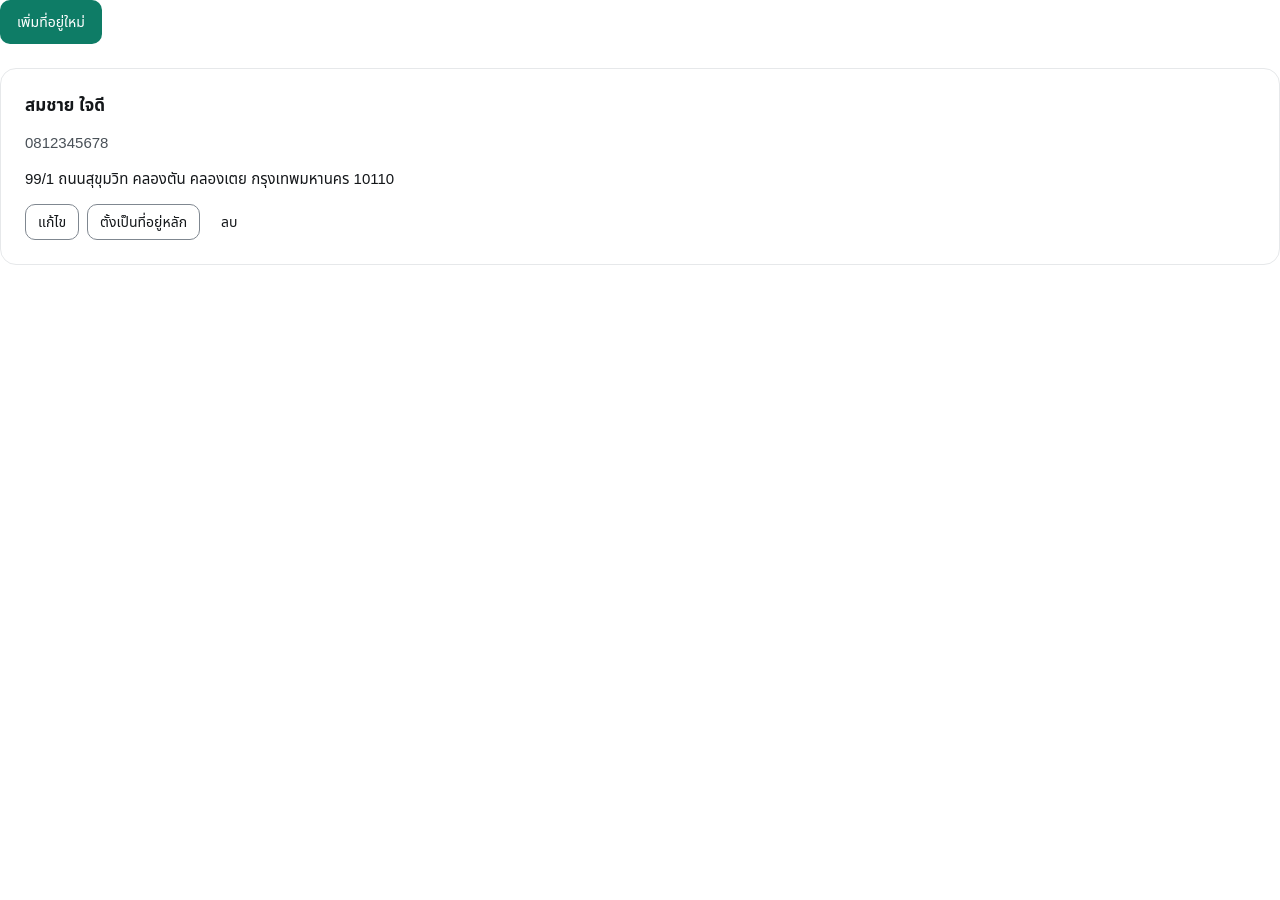
Test: AddressBook › edits an address with the stored values prefilled
Step 1. Click the button "แก้ไข" → [52, 222], box x1=25 y1=204 x2=79 y2=240
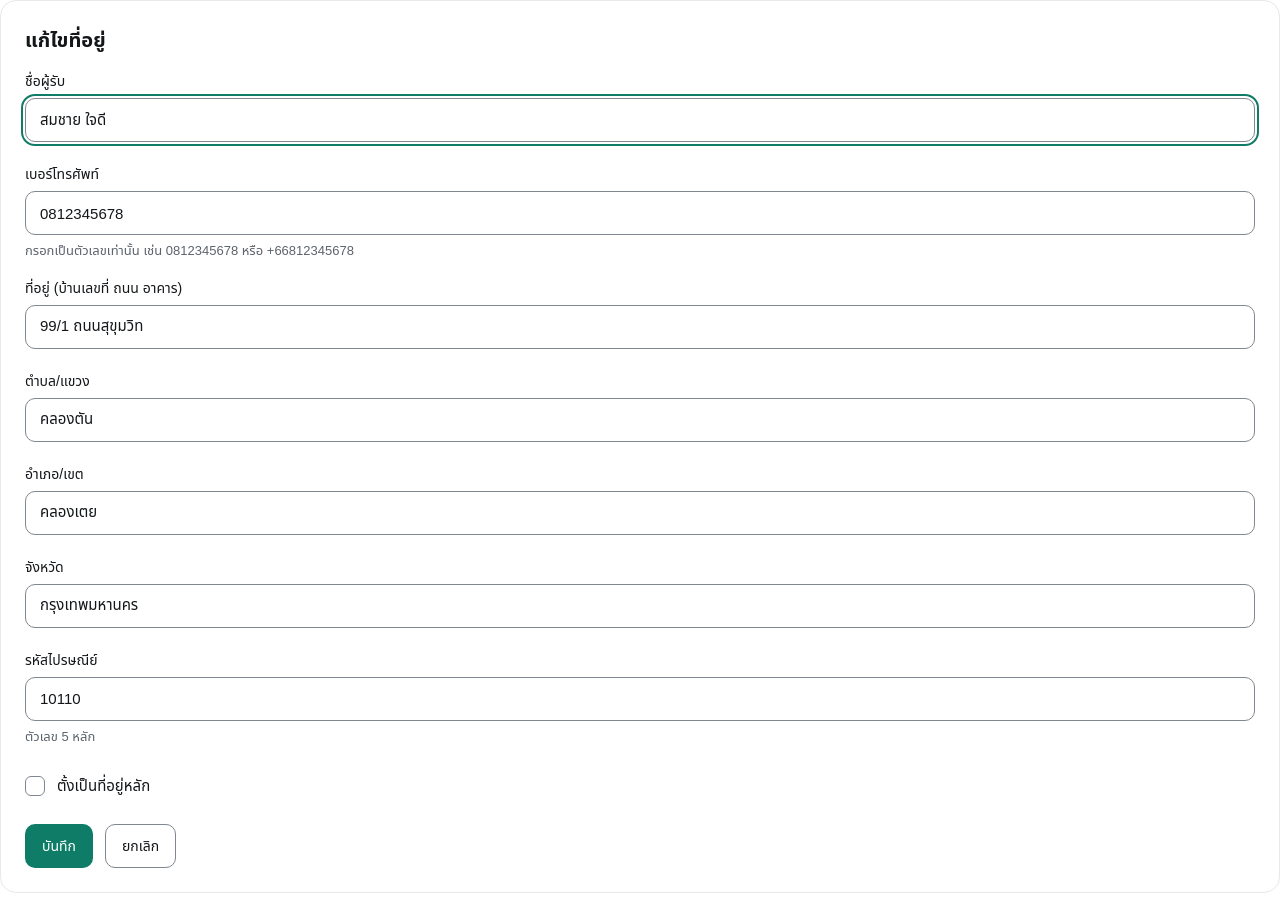
Check: the field labelled "จังหวัด" holds "กรุงเทพมหานคร"
Step 2. Replace the text in the field labelled "จังหวัด" with "นนทบุรี" → [640, 606], box x1=25 y1=584 x2=1255 y2=628
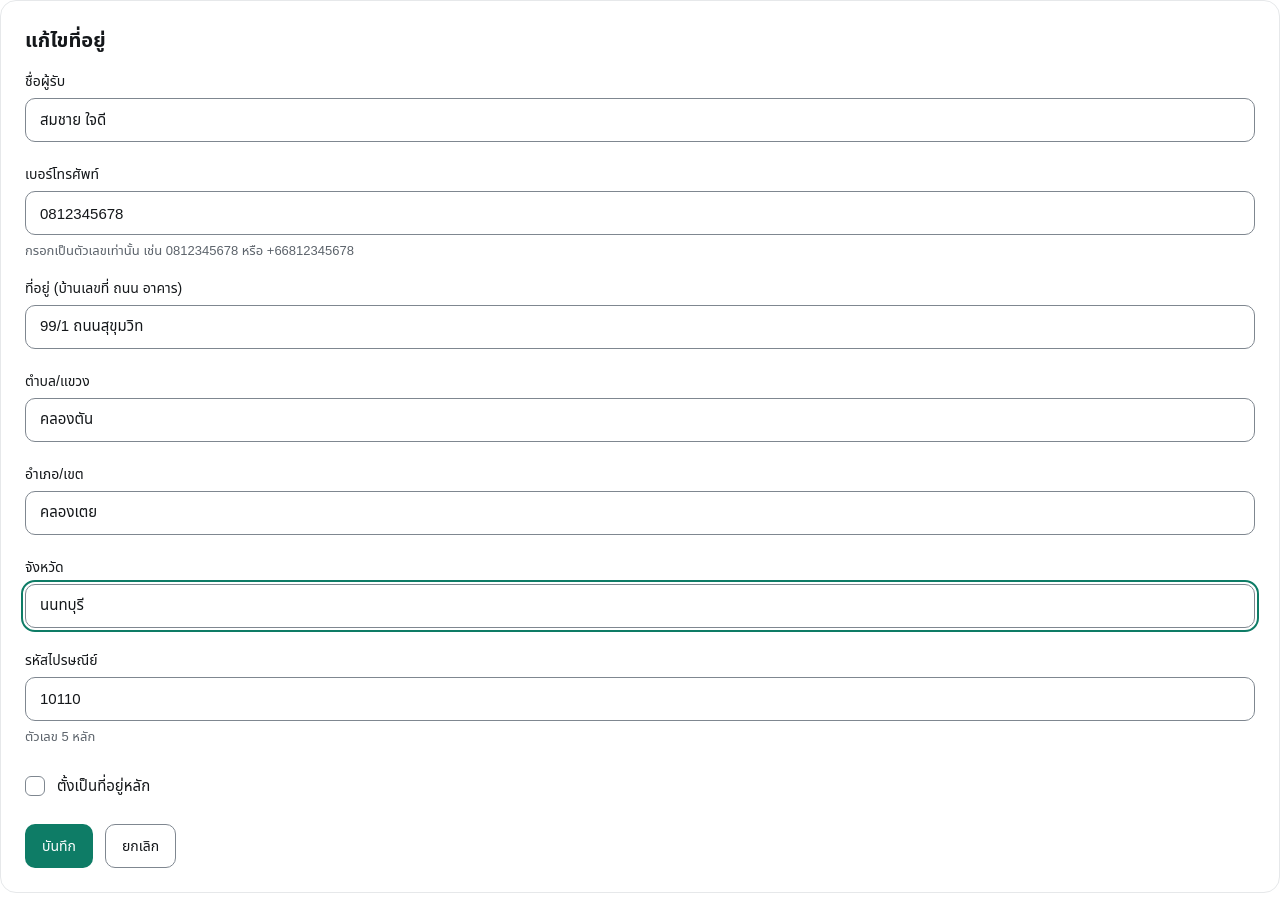
Step 3. Click the button "บันทึก" → [59, 846], box x1=25 y1=824 x2=93 y2=868
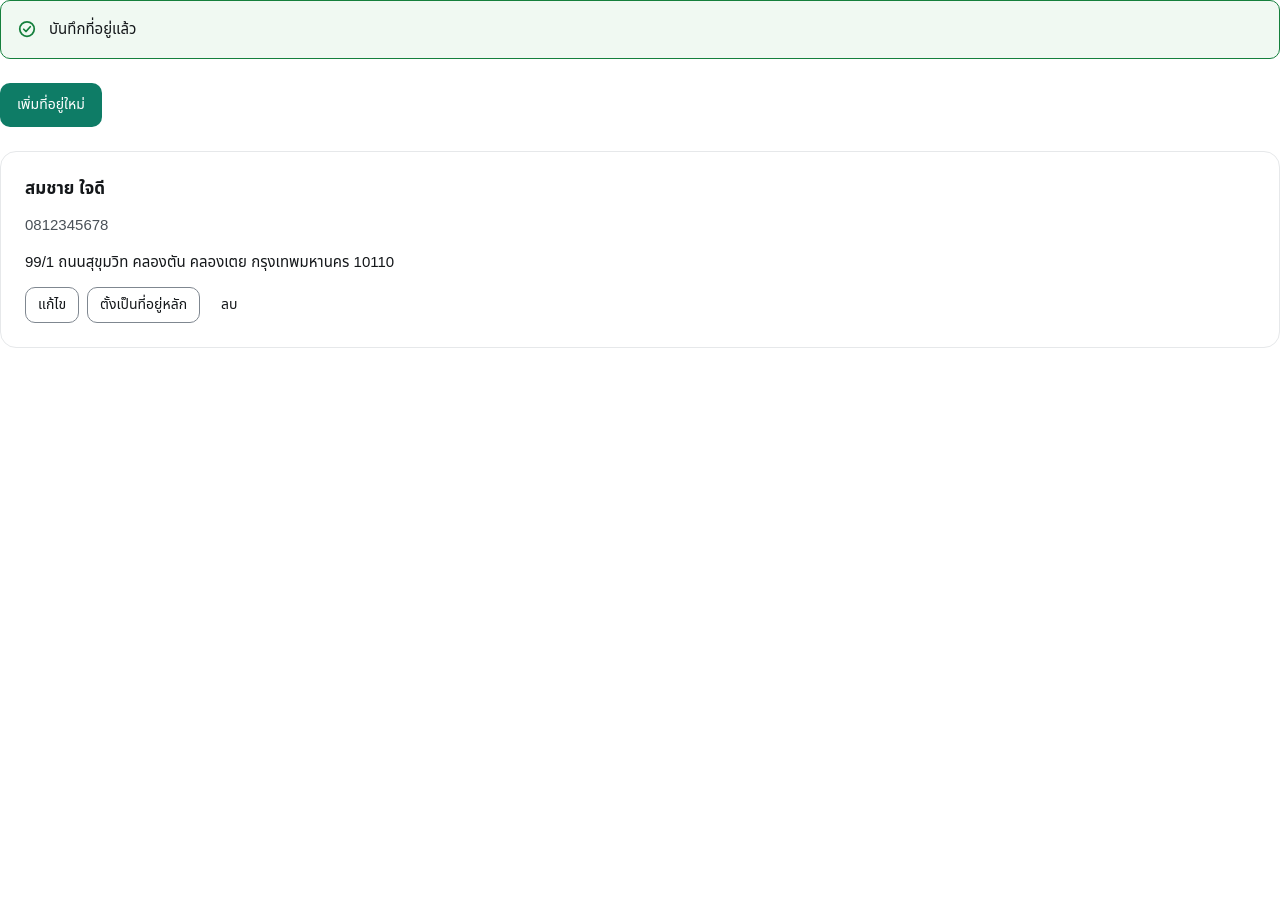
Check: the text "บันทึกที่อยู่แล้ว" is shown, box x1=49 y1=20 x2=136 y2=37
